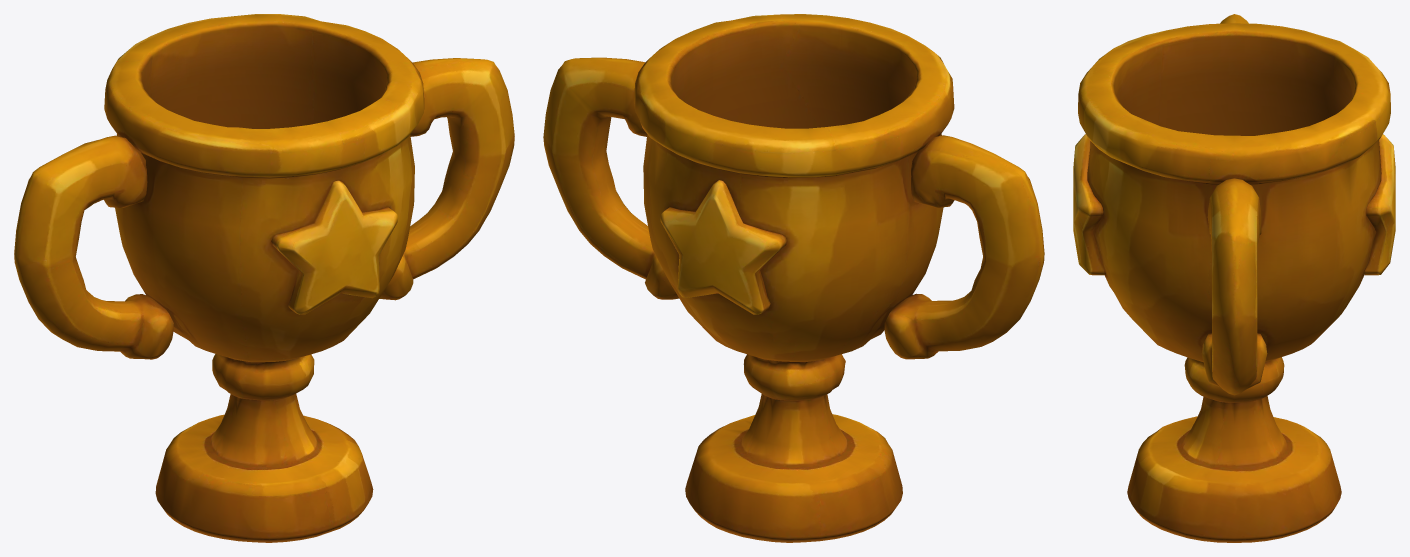
The model's file is aile_coupe.glb.
The picture shows the model from 3 angles, left to right: view 1: azimuth 30°, elevation 25°; view 2: azimuth 150°, elevation 25°; view 3: azimuth 270°, elevation 25°; orthographic projection.
Parts seen in each view (by area): view 1: geometry_0; view 2: geometry_0; view 3: geometry_0.
Part boxes in pixels (left/top/right/bottom): geometry_0: left=14, top=14, right=514, bottom=542; geometry_0: left=543, top=14, right=1044, bottom=542; geometry_0: left=1073, top=14, right=1395, bottom=542.
Bounding box in the file's own units: 0.9565 × 0.7827 × 0.5454.
Materials: 1 (1 with a texture image).
